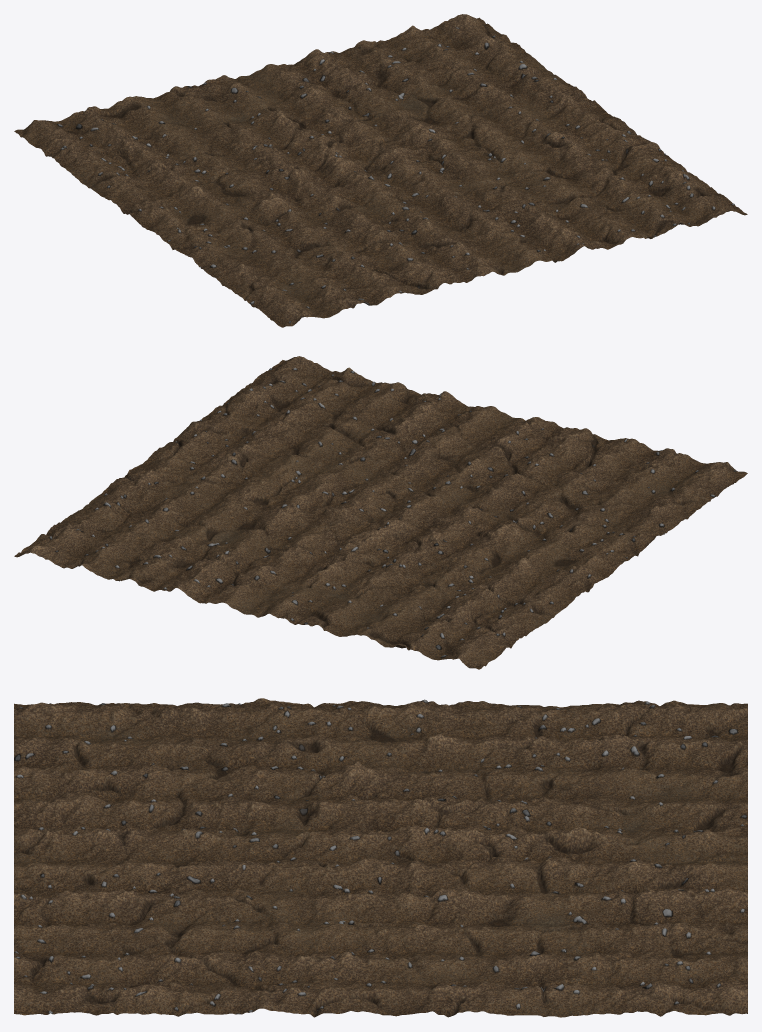
The picture shows the model from 3 angles, top to bottom: view 1: azimuth 30°, elevation 25°; view 2: azimuth 150°, elevation 25°; view 3: azimuth 270°, elevation 25°; orthographic projection. The views are drawn at different scales.
Parts seen in each view (by area): view 1: DirtMesh; view 2: DirtMesh; view 3: DirtMesh.
Boxes of the visible parts, left/top/right/bottom form: DirtMesh: left=14, top=14, right=747, bottom=327; DirtMesh: left=14, top=356, right=747, bottom=669; DirtMesh: left=14, top=698, right=747, bottom=1017.
Bounding box in the file's own units: 1 × 0.0287 × 1.
1 material, 1 textured.
